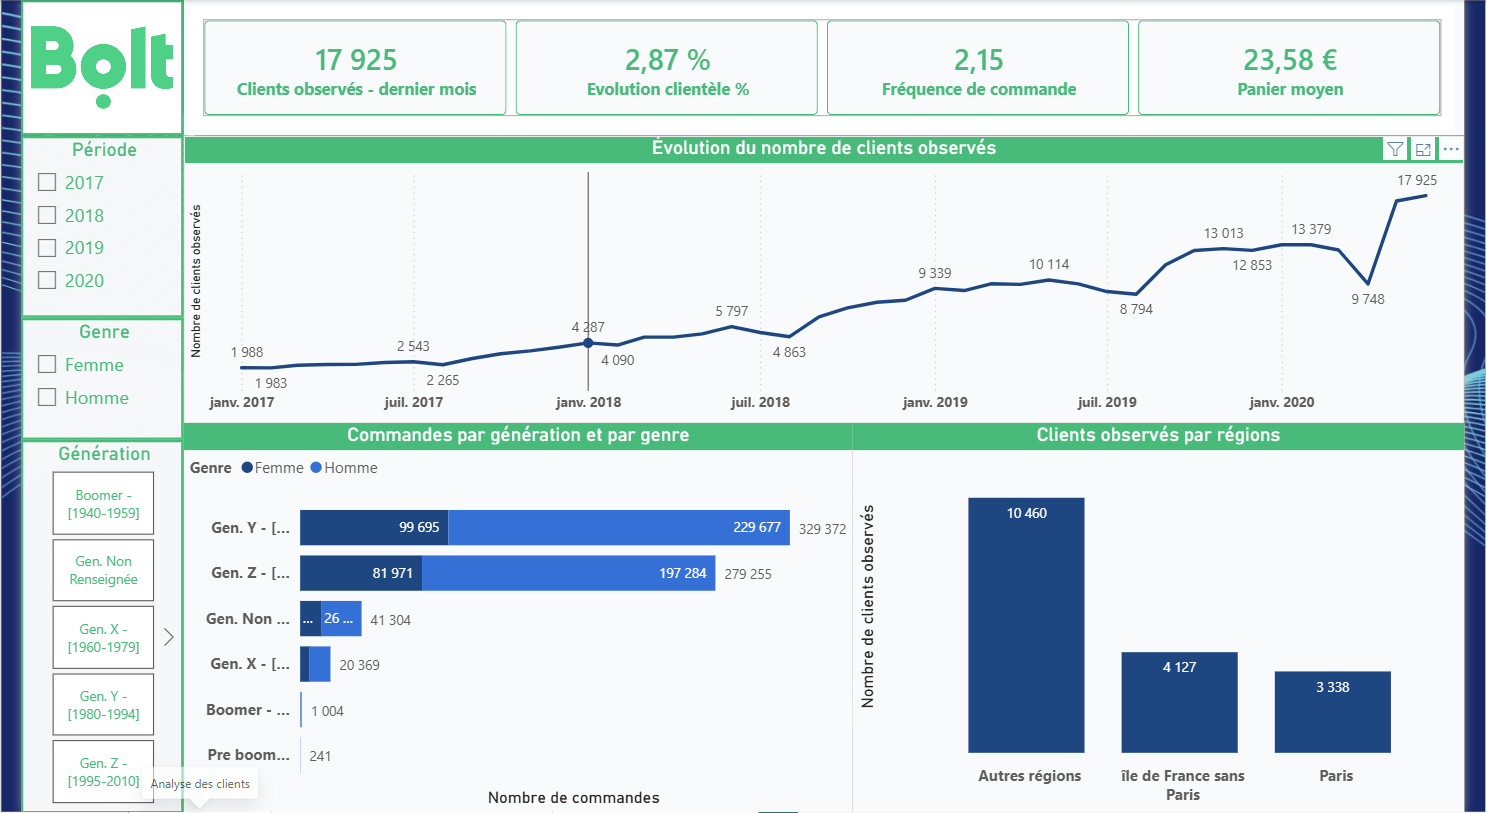

This screenshot's page, from the dashboard's own definition file:
{"tool":"powerbi","page":{"name":"Analyse des clients","canvas":[1280,720],"ordinal":0},"visuals":[{"type":"lineChart","title":"Évolution du nombre de clients observés","fields":{"Y":["Mesure.Clients cumulés observés"],"Category":["Dim_Mois.Annee_Mois_Date"]},"box":[144.3,120.5,1135.2,254.5],"z":0},{"type":"barChart","title":"Commandes par génération et par genre","fields":{"Category":["df_vente_sans_just_eat.synthetic_age_generation"],"Y":["Mesure.Nombre de commandes"],"Series":["df_vente_sans_just_eat.synthetic_gender"]},"box":[144.3,375,593.2,345.5],"z":1000},{"type":"clusteredColumnChart","title":"Clients observés par régions","fields":{"Category":["df_client_sans_just_eat.order_item_delivery_address_region"],"Y":["Mesure.Clients observés - dernier mois"]},"box":[737.5,375,542,345.5],"z":2000},{"type":"image","box":[0,0,144.3,120.5],"z":3000},{"type":"cardVisual","fields":{"Data":["Mesure.Clients observés - dernier mois","Mesure.Évolution clientèle %","Mesure.Fréquence de commande","Mesure.Panier moyen"]},"box":[144.3,0,1135.2,120.5],"z":4000},{"type":"slicer","title":"Période","fields":{"Values":["Dim_Mois.Annee_Mois_Date.Variation.Hiérarchie de dates.Année"]},"box":[0,120.5,144.3,161.4],"z":5000},{"type":"slicer","title":"Genre","fields":{"Values":["df_vente_sans_just_eat.synthetic_gender"]},"box":[0,281.8,144.3,108],"z":6000},{"type":"slicer","title":"Génération","fields":{"Values":["df_vente_sans_just_eat.synthetic_age_generation"]},"box":[0,389.8,144.3,330.7],"z":7000}]}

Visuals, with their boxes on the page's 1280x720 design canvas (x1, y1, x2, y2). These are canvas units, not pixel positions in the 1487x813 screenshot, which may show the page scaled, cropped or inside an application window:
"Évolution du nombre de clients observés" lineChart: {"x1": 144, "y1": 120, "x2": 1280, "y2": 375}
"Commandes par génération et par genre" barChart: {"x1": 144, "y1": 375, "x2": 738, "y2": 720}
"Clients observés par régions" clusteredColumnChart: {"x1": 738, "y1": 375, "x2": 1280, "y2": 720}
image: {"x1": 0, "y1": 0, "x2": 144, "y2": 120}
cardVisual - Mesure.Clients observés - dernier mois x Mesure.Évolution clientèle %: {"x1": 144, "y1": 0, "x2": 1280, "y2": 120}
"Période" slicer: {"x1": 0, "y1": 120, "x2": 144, "y2": 282}
"Genre" slicer: {"x1": 0, "y1": 282, "x2": 144, "y2": 390}
"Génération" slicer: {"x1": 0, "y1": 390, "x2": 144, "y2": 720}
